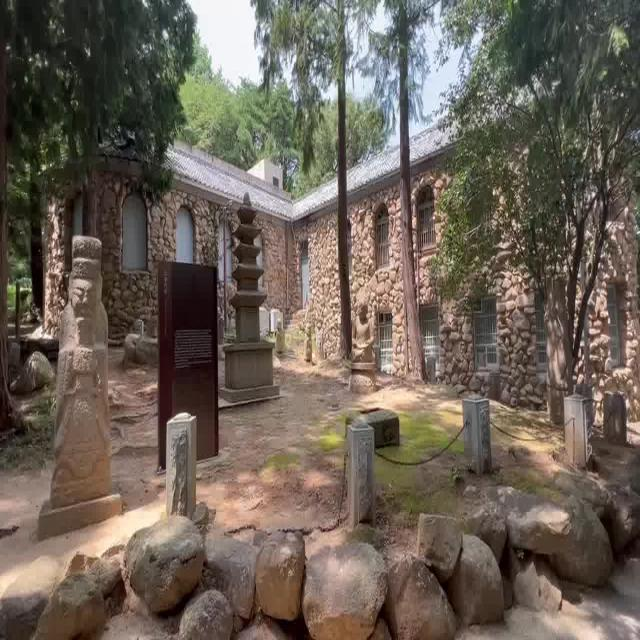building: (160, 140, 334, 372)
